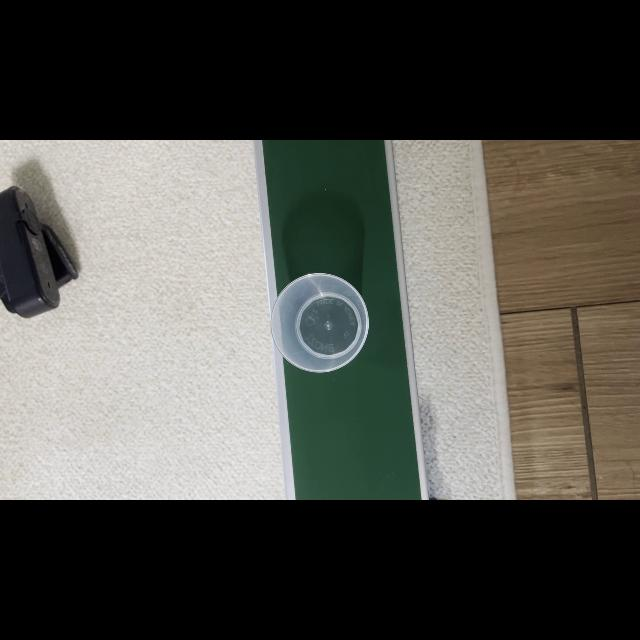clean: (270, 274, 370, 374)
